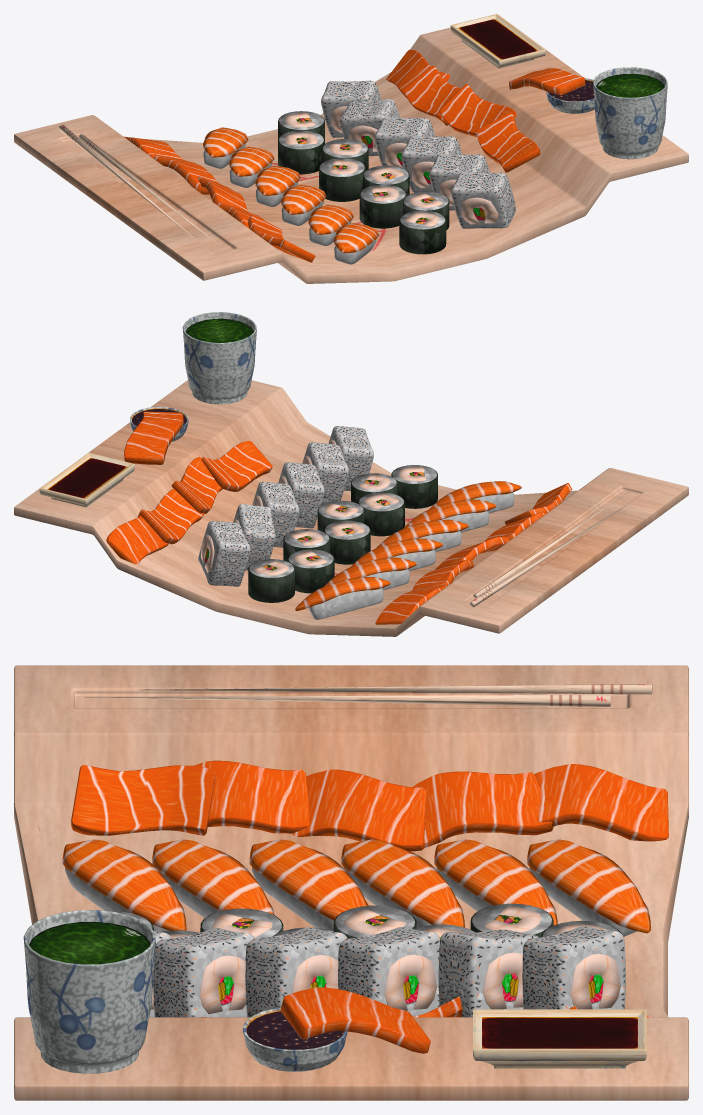
File: food.glb
The picture shows the model from 3 angles, top to bottom: view 1: azimuth 30°, elevation 25°; view 2: azimuth 150°, elevation 25°; view 3: azimuth 270°, elevation 25°; orthographic projection. The views are drawn at different scales.
Visible parts, largest first — view 1: Table, Umaki Line, Fmaki Line, Tea, Soy, Sashimi 6, Sashimi 7, Sashimi 8, Niguiri, Niguiri 003, Sashimi 10, Niguiri 006 (+11 smaller); view 2: Table, Umaki Line, Fmaki Line, Tea, Soy, Niguiri 006, Sashimi 10, Sashimi 6, Sashimi 8, Sashimi 9, Sashimi 7, Niguiri 2 (+12 smaller); view 3: Table, Umaki Line, Tea, Soy, Sashimi, Sashimi 3, Sashimi 5, Sashimi 4, Fmaki Line, Niguiri 006, Niguiri, Niguiri 004 (+8 smaller).
Boxes of the visible parts, x1,y1,x2,y2 form: Table: (14,27,688,283); Umaki Line: (321,80,515,228); Fmaki Line: (278,111,449,254); Tea: (593,67,667,159); Soy: (450,14,545,68); Sashimi 6: (477,112,540,172); Sashimi 7: (440,84,516,137); Sashimi 8: (404,65,460,125); Niguiri: (333,223,378,264); Niguiri 003: (281,184,326,225); Sashimi 10: (509,68,585,95); Niguiri 006: (203,127,248,168); Table: (14,380,688,636); Umaki Line: (198,426,373,586); Fmaki Line: (248,465,437,602); Tea: (182,312,256,404); Soy: (39,452,134,507); Niguiri 006: (295,577,391,619); Sashimi 10: (124,411,183,464); Sashimi 6: (201,440,272,491); Sashimi 8: (139,489,203,544); Sashimi 9: (106,509,168,564); Sashimi 7: (171,457,222,513); Niguiri 2: (403,499,496,532); Table: (14,665,688,1100); Umaki Line: (149,926,625,1017); Tea: (23,910,155,1073); Soy: (473,1009,646,1068); Sashimi: (71,765,215,835); Sashimi 3: (292,769,427,851); Sashimi 5: (535,764,668,841); Sashimi 4: (413,771,553,847); Fmaki Line: (112,903,622,938); Niguiri 006: (527,839,650,936); Niguiri: (62,839,186,931); Niguiri 004: (341,839,464,927).
Bounding box in the file's own units: 3.85 × 0.9576 × 2.61.
1 material, 1 textured.
